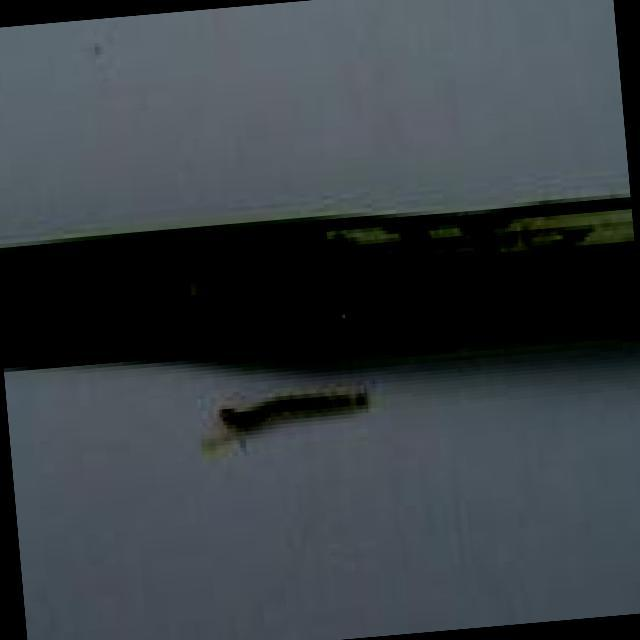leaf folder: (206, 387, 370, 446)
